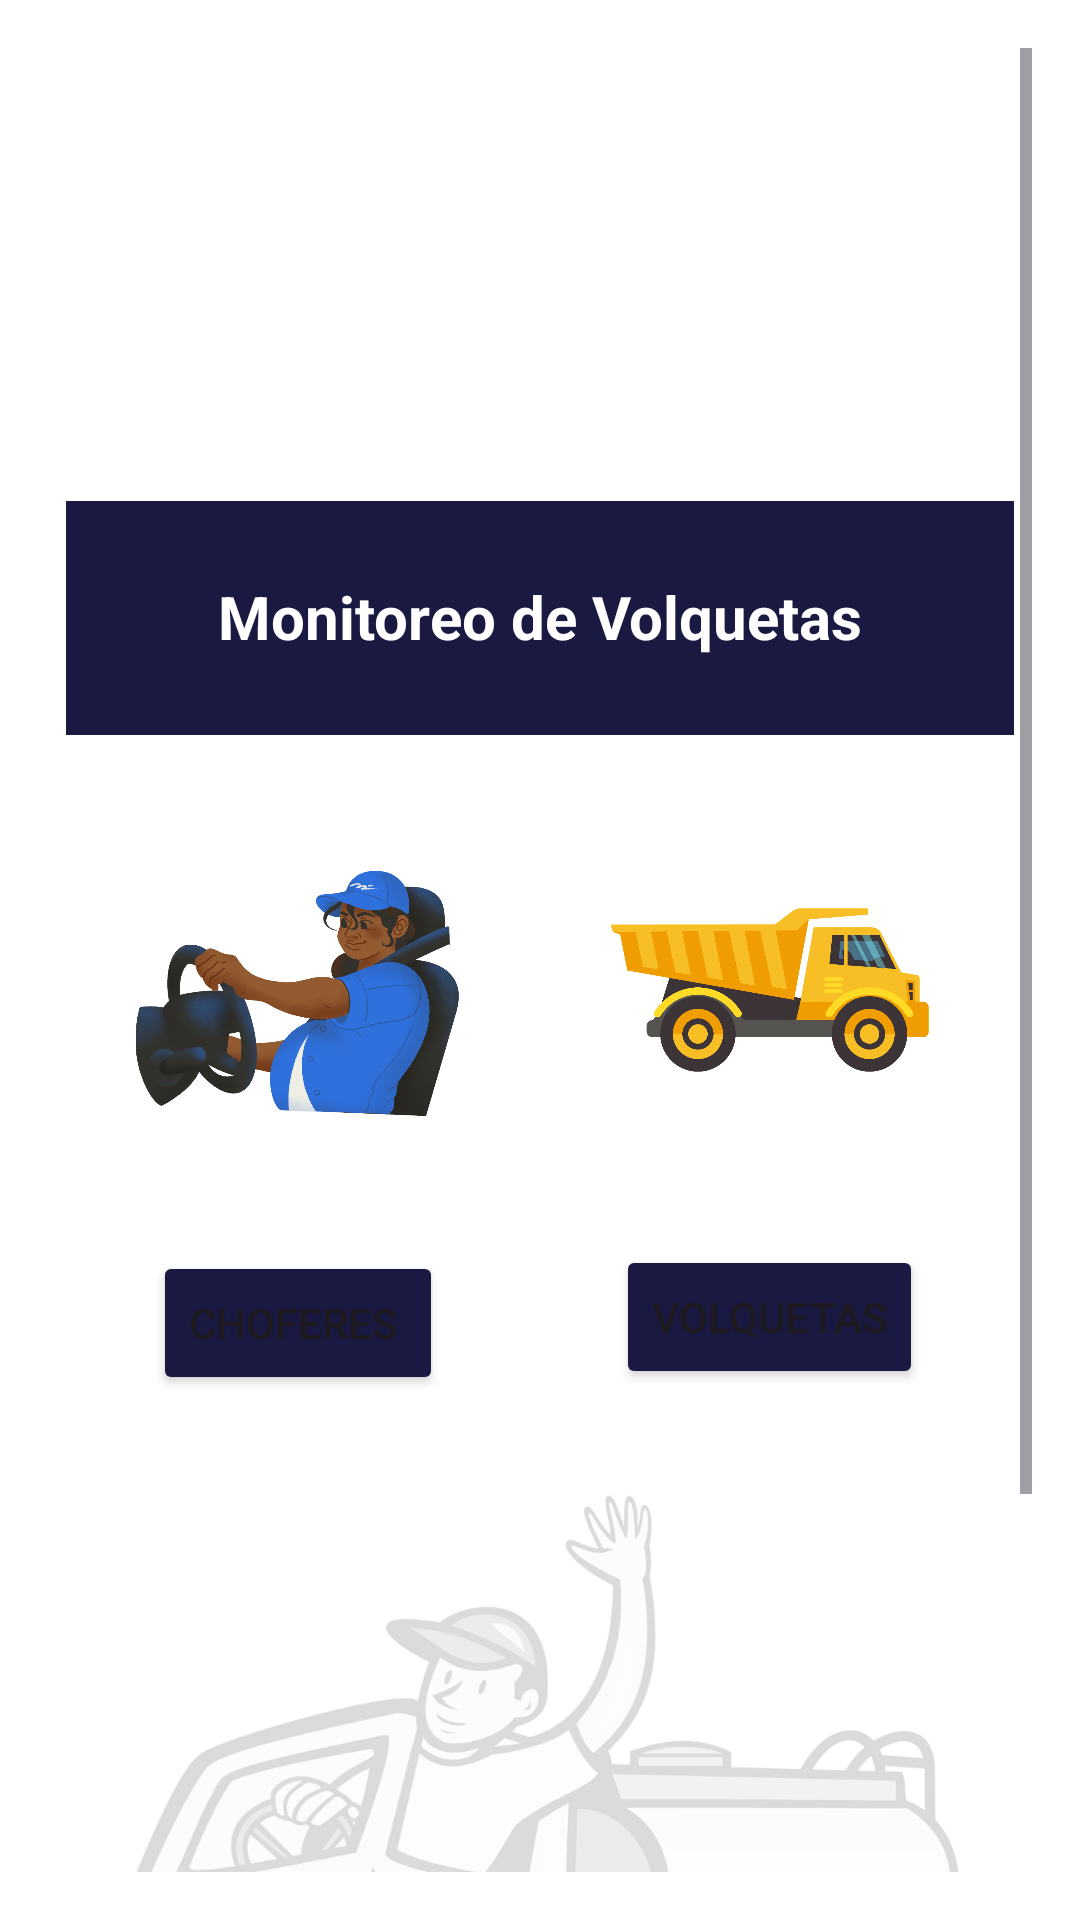

Icons on this 1080 × 1920 Android screen, each with the point to tap as (x=x, y=y):
conductor: (x=297, y=993)
